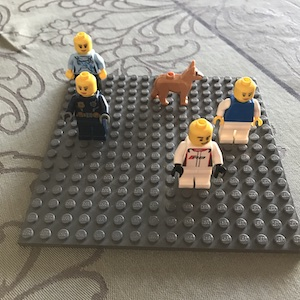Lego: (172, 117, 225, 193), (61, 70, 111, 142), (212, 76, 264, 144), (62, 31, 108, 100)
